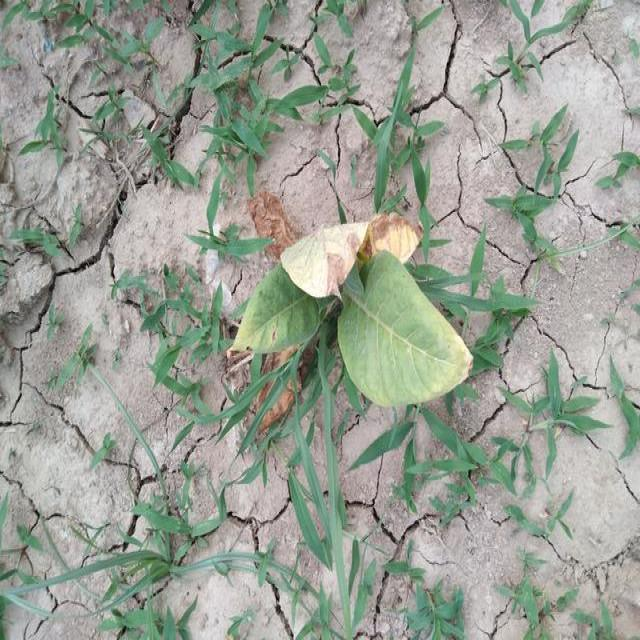crop: (230, 187, 477, 413)
